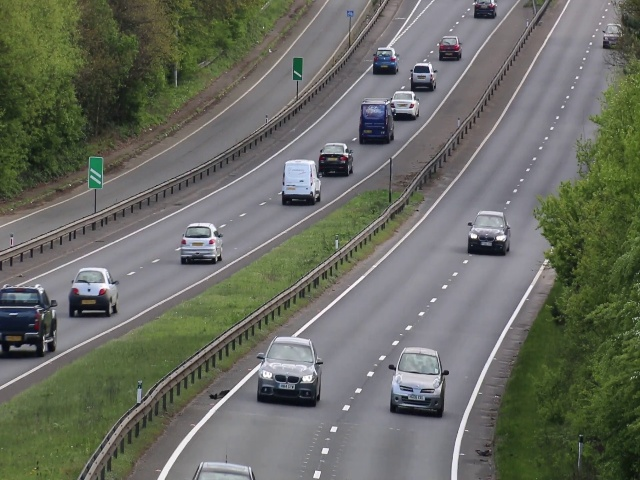car: (256, 334, 325, 409), (1, 283, 57, 358), (388, 345, 445, 418), (68, 264, 121, 320), (467, 208, 511, 254), (278, 160, 322, 204), (178, 222, 224, 263), (359, 97, 396, 144), (317, 142, 353, 176), (391, 88, 419, 120), (409, 61, 438, 91), (371, 45, 398, 75), (438, 35, 461, 61)
